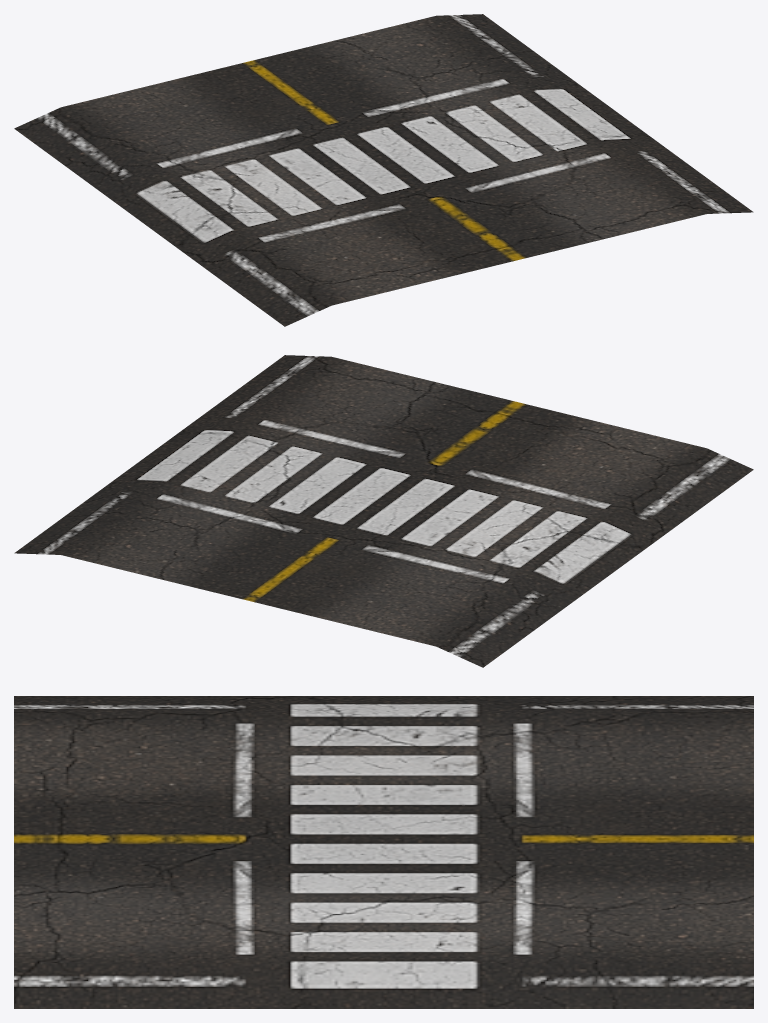
File: Road_02.glb
3 views of the same model, one above another, from view 1: azimuth 30°, elevation 25°; view 2: azimuth 150°, elevation 25°; view 3: azimuth 270°, elevation 25° (orthographic). The views are drawn at different scales.
Visible parts, largest first — view 1: Road_02.001; view 2: Road_02.001; view 3: Road_02.001.
Part boxes in pixels (x1,y1,x2,y2): Road_02.001: [14, 14, 753, 326]; Road_02.001: [14, 355, 753, 667]; Road_02.001: [14, 696, 753, 1008].
Bounding box in the file's own units: 10 × 0.2 × 10.
1 material, 1 textured.
